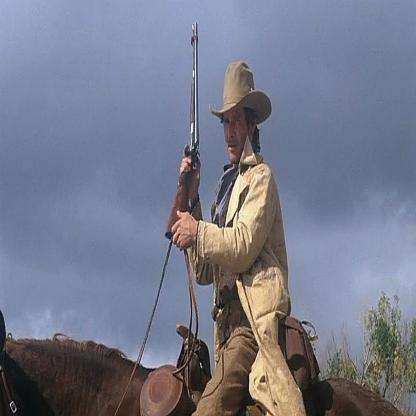gun: (163, 21, 218, 240)
